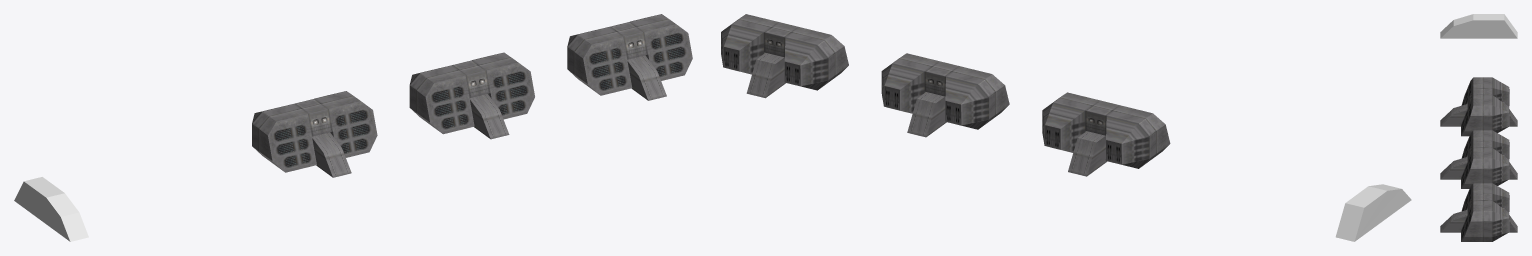
File: ksh_sec_destroyer_missilelauncher.dae
3 views of the same model, side by side, from view 1: azimuth 30°, elevation 25°; view 2: azimuth 150°, elevation 25°; view 3: azimuth 270°, elevation 25° (orthographic). The views are drawn at different scales.
Parts seen in each view (by area): view 1: MULT[turret]_LOD[1], MULT[turret]_LOD[2], MULT[turret]_LOD[0], COL[Root], MULT[missile_base]_LOD[0], MULT[missile_base]_LOD[1], MULT[missile_base]_LOD[2]; view 2: MULT[turret]_LOD[1], MULT[turret]_LOD[2], MULT[turret]_LOD[0], COL[Root], MULT[missile_base]_LOD[1], MULT[missile_base]_LOD[2], MULT[missile_base]_LOD[0]; view 3: MULT[turret]_LOD[2], MULT[turret]_LOD[0], MULT[turret]_LOD[1], COL[Root], MULT[missile_base]_LOD[2], MULT[missile_base]_LOD[1], MULT[missile_base]_LOD[0].
Part boxes in pixels (x1,y1,x2,y2): MULT[turret]_LOD[1]: [409, 52, 534, 134]; MULT[turret]_LOD[2]: [567, 14, 692, 95]; MULT[turret]_LOD[0]: [252, 91, 377, 172]; COL[Root]: [14, 177, 88, 241]; MULT[missile_base]_LOD[0]: [312, 132, 351, 177]; MULT[missile_base]_LOD[1]: [469, 94, 509, 139]; MULT[missile_base]_LOD[2]: [627, 55, 666, 100]; MULT[turret]_LOD[1]: [881, 53, 1009, 129]; MULT[turret]_LOD[2]: [721, 14, 848, 90]; MULT[turret]_LOD[0]: [1042, 92, 1170, 168]; COL[Root]: [1335, 184, 1411, 241]; MULT[missile_base]_LOD[1]: [907, 92, 946, 137]; MULT[missile_base]_LOD[2]: [746, 53, 785, 98]; MULT[missile_base]_LOD[0]: [1068, 131, 1107, 176]; MULT[turret]_LOD[2]: [1461, 183, 1509, 241]; MULT[turret]_LOD[0]: [1461, 77, 1509, 136]; MULT[turret]_LOD[1]: [1461, 130, 1509, 188]; COL[Root]: [1440, 14, 1517, 38]; MULT[missile_base]_LOD[2]: [1440, 208, 1517, 232]; MULT[missile_base]_LOD[1]: [1440, 155, 1517, 179]; MULT[missile_base]_LOD[0]: [1440, 102, 1517, 126].
Size of the model in its own units: 242 by 16.85 by 36.88.
4 materials, 4 textured.
